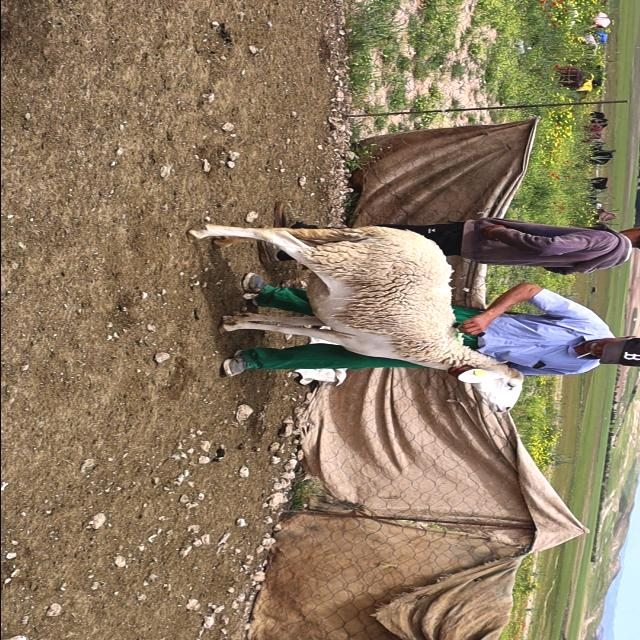Score_4: (188, 223, 523, 413)
